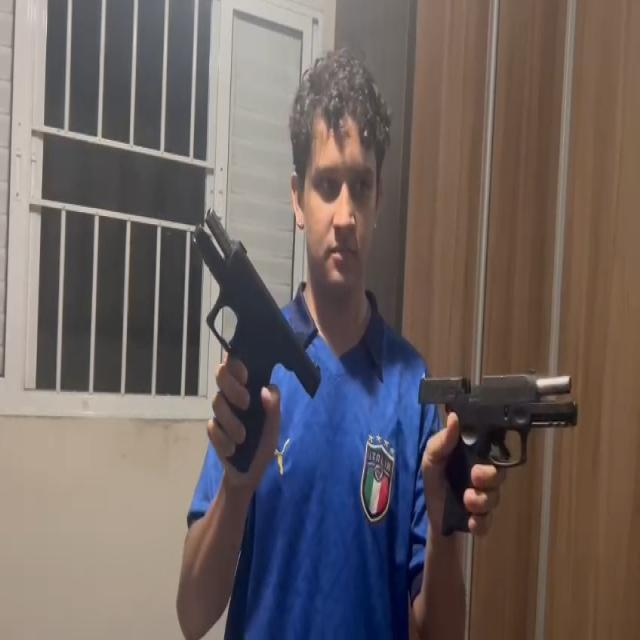gun: (194, 202, 320, 476), (417, 368, 581, 543)
